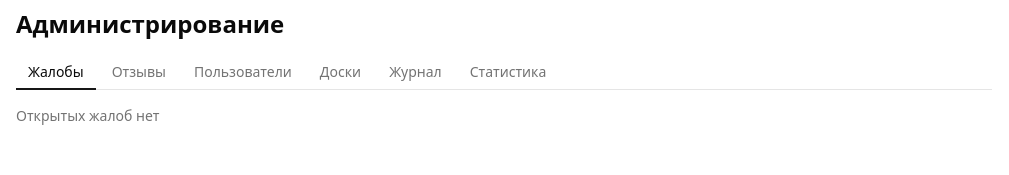
Scenario: AdminFeedback › names closed feedback in the journal by the beginning of its text
The width and height of the screenshot is (1009, 175).
What coordinates should you click on to do the following:
click the tab "Журнал"
I would click on:
 (415, 73)
Its box is 377,56 -> 454,90.
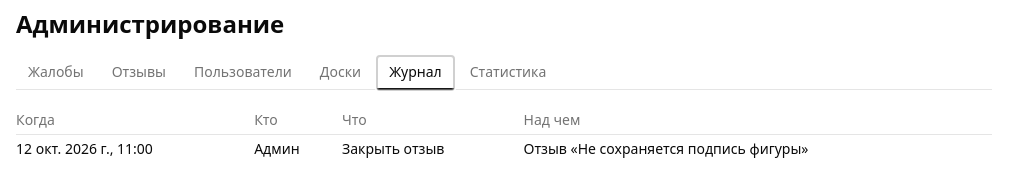
Expected: the table named "Журнал действий администраторов" shows "Закрыть отзыв", 342,139 -> 444,158
Expected: the table named "Журнал действий администраторов" shows "Отзыв «Не сохраняется подпись фигуры»", 524,139 -> 808,158
